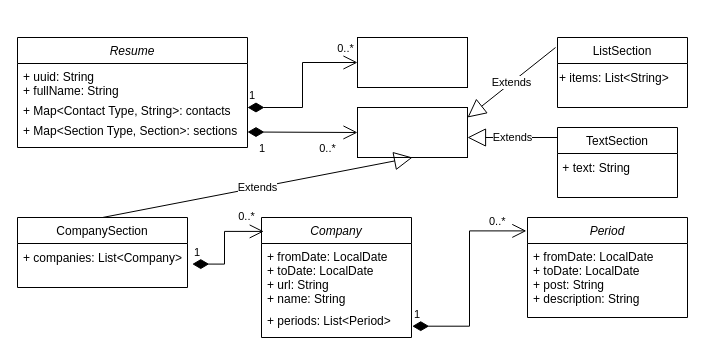
Some shapes in this 705 by 361 pixel diagram are drawn without their labels. Here are the shapes that lost their labels. From the top down, the centre of each, then its label:
At point (412, 62): "String".
At point (412, 132): "Section".
